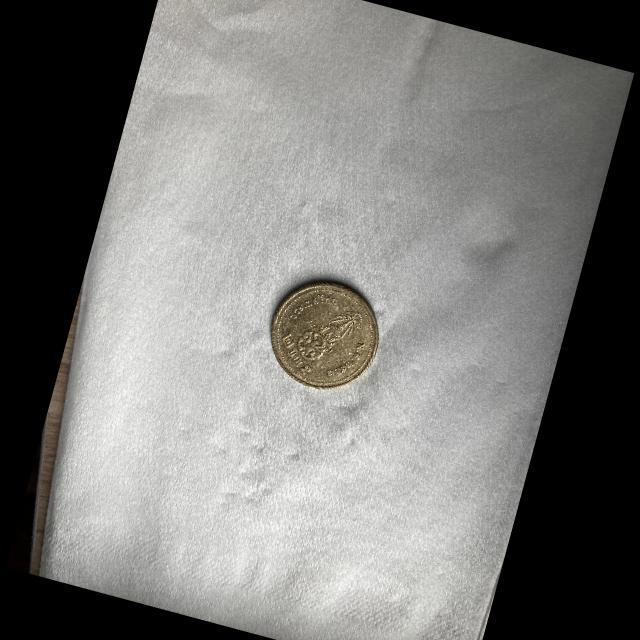2 Bath: (269, 280, 383, 391)
